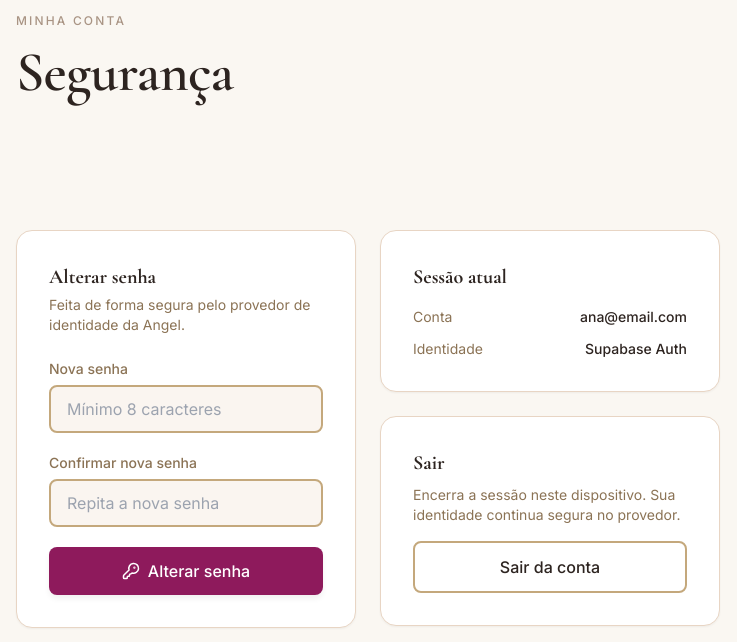
Test: SegurancaPage › falha do provedor é exibida com honestidade
Step 1. Type "senha-valida" into the password field labelled "Nova senha" → (186, 409), box [49,385,323,433]
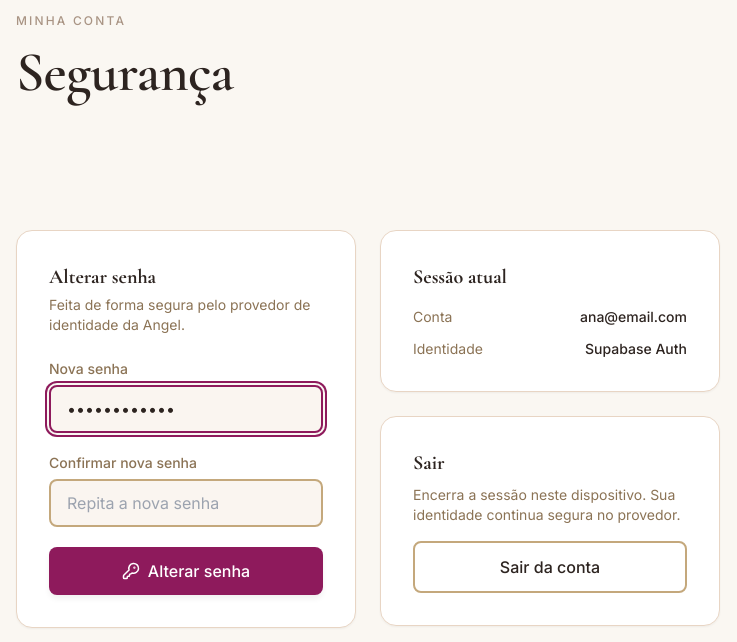
Step 2. Type "senha-valida" into the password field labelled "Confirmar nova senha" → (186, 503), box [49,479,323,527]
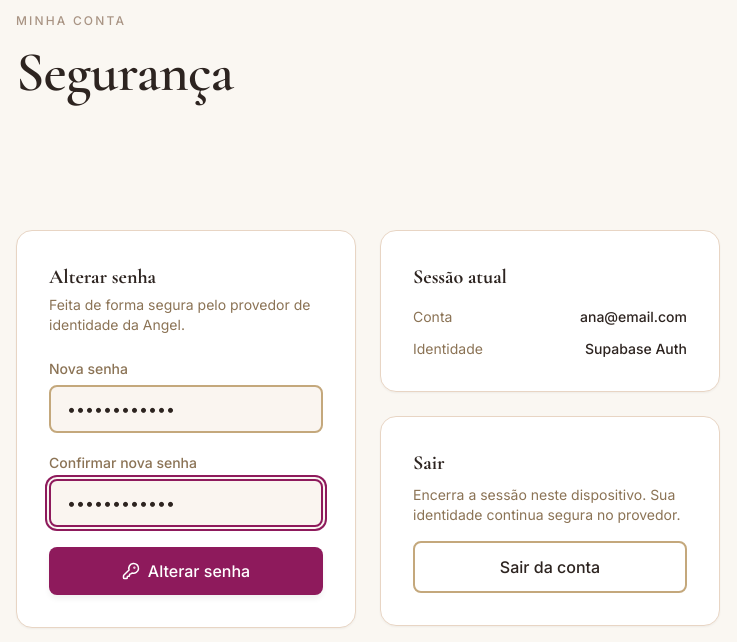
Step 3. Click the button "Alterar senha" → (186, 571), box [49,547,323,595]
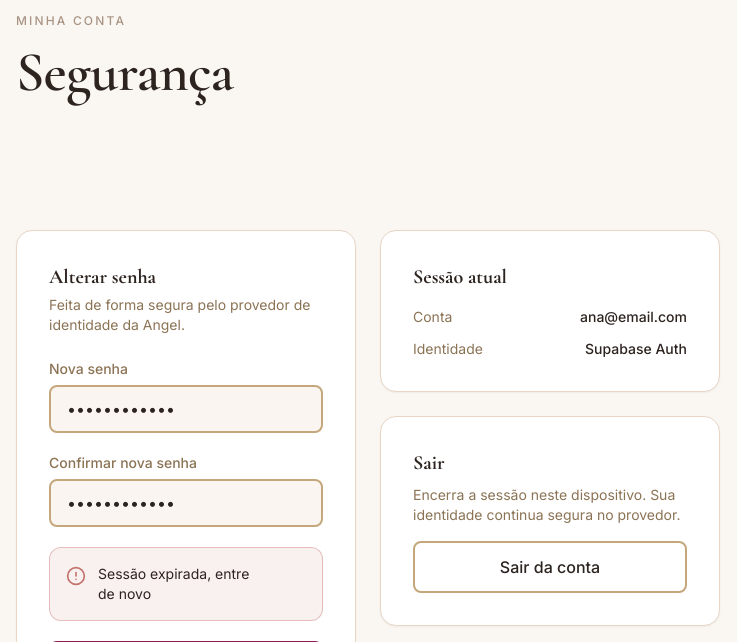
Result: the text "Sessão expirada, entre de novo" is shown at [98,565,249,602]
